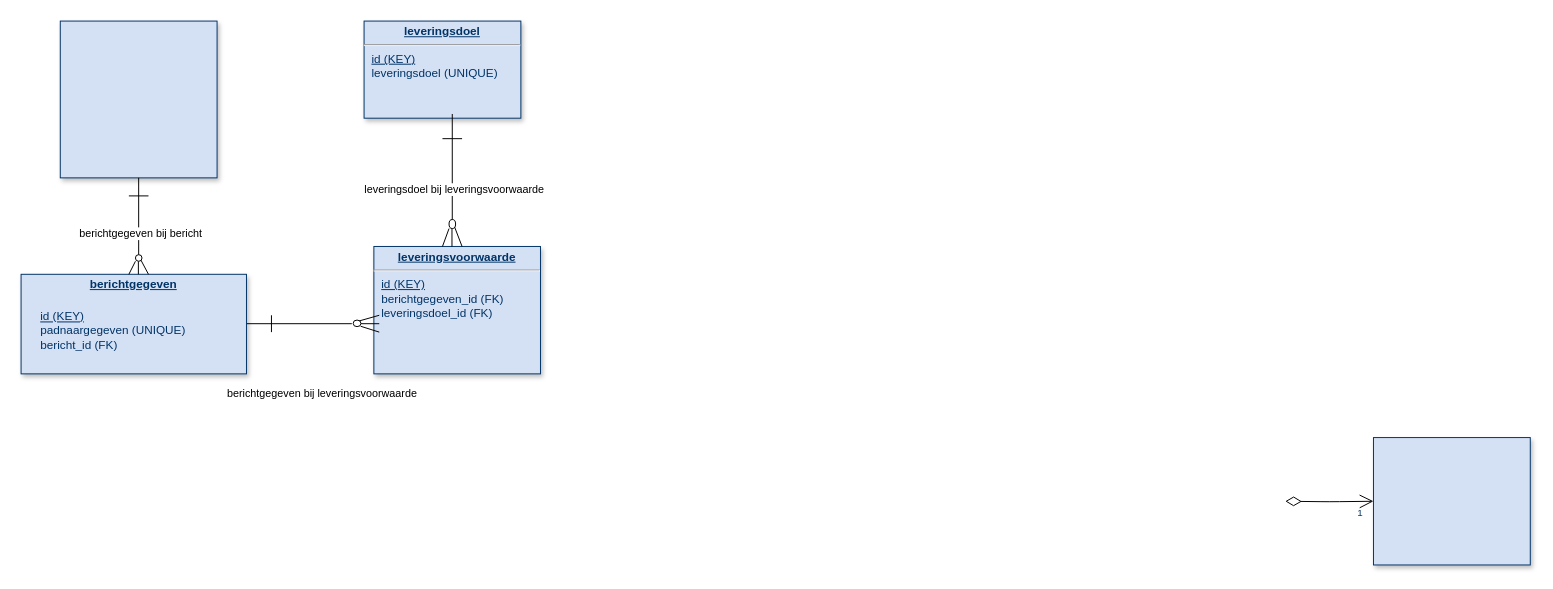
This 1553x589 diagram has some shape labels left out. Each missing label, with the centre of its shape:
"bericht id (KEY) berichtnaam (UNIQUE)" goes at point (139, 100).
"TimeCategory IdTimeCategory Name Description CreatedAt UpdatedAt Enabled" goes at point (1452, 502).
